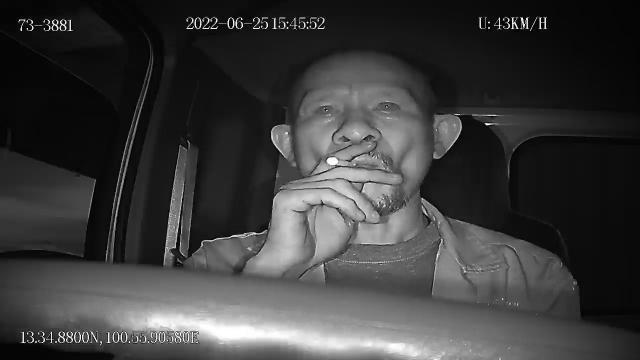SafeDriving: (304, 94, 346, 128), (366, 91, 406, 119)
Smoking: (325, 157, 363, 169)
